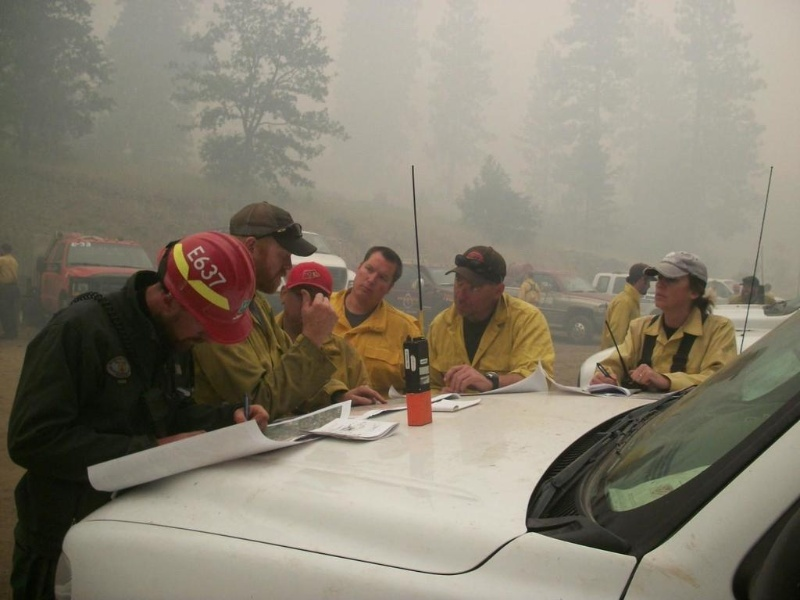baret: (158, 230, 257, 349)
